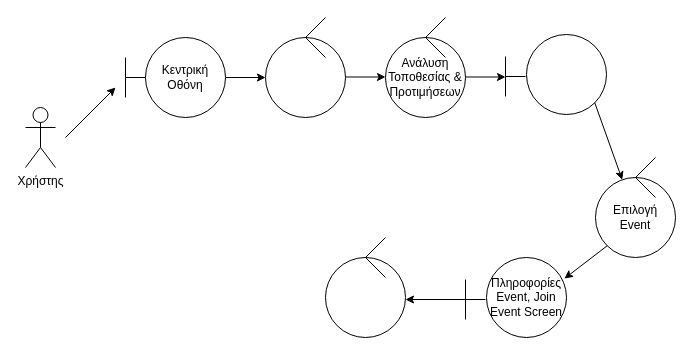
Image size: 693x355. Some labels were removed from this diagram. The centre of each missing label's shape, as x and y in pixels:
Επιλογή Join Event: point (365, 297)
Κουμπί Event Near Me: point (305, 77)
Λίστα προτεινόμενων Events Screen: point (566, 74)
